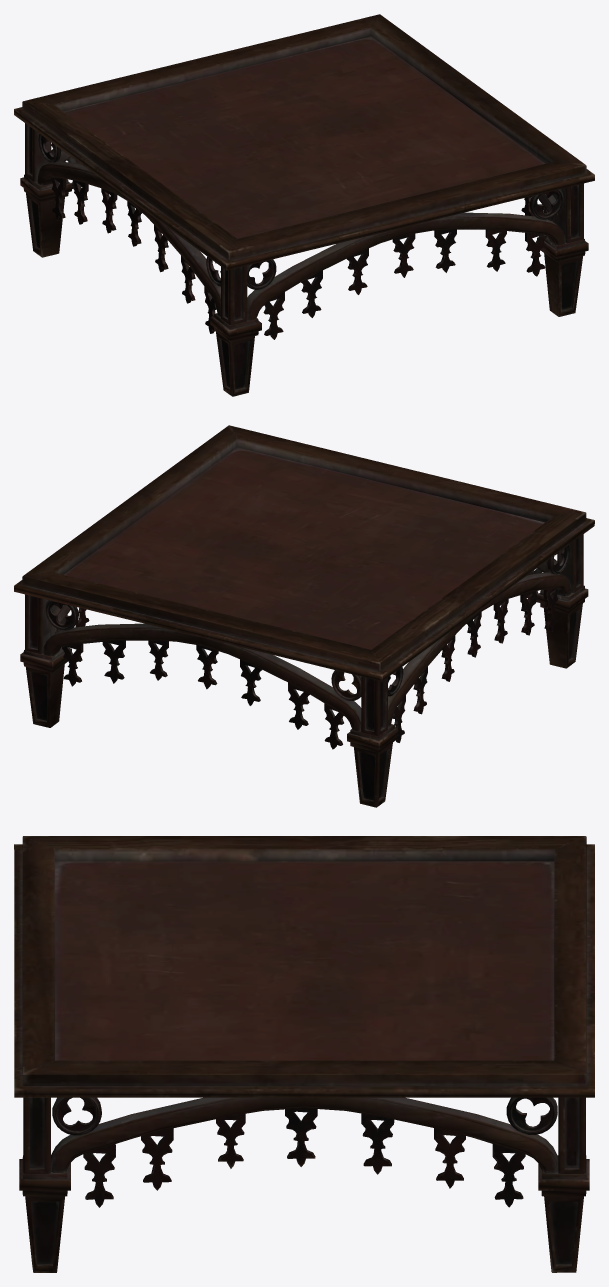
The model's file is gothic_coffee_table.glb.
3 renders of one model, top to bottom at view 1: azimuth 30°, elevation 25°; view 2: azimuth 150°, elevation 25°; view 3: azimuth 270°, elevation 25°, orthographic. The views are drawn at different scales.
Parts seen in each view (by area): view 1: gothic_coffee_table; view 2: gothic_coffee_table; view 3: gothic_coffee_table.
Boxes of the visible parts, bbox=[...] form: gothic_coffee_table: bbox=[14, 14, 594, 396]; gothic_coffee_table: bbox=[14, 425, 594, 807]; gothic_coffee_table: bbox=[14, 836, 594, 1272].
Bounding box in the file's own units: 1.44 × 0.5568 × 1.44.
1 material, 1 textured.
